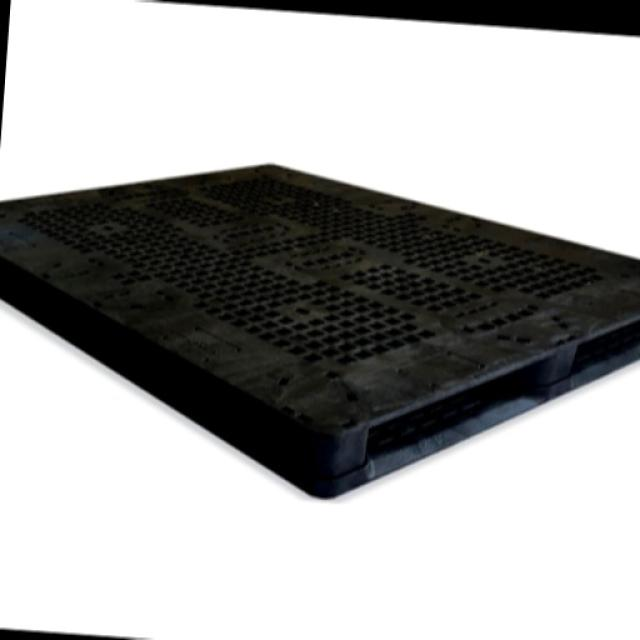non-igps: (1, 160, 640, 503)
